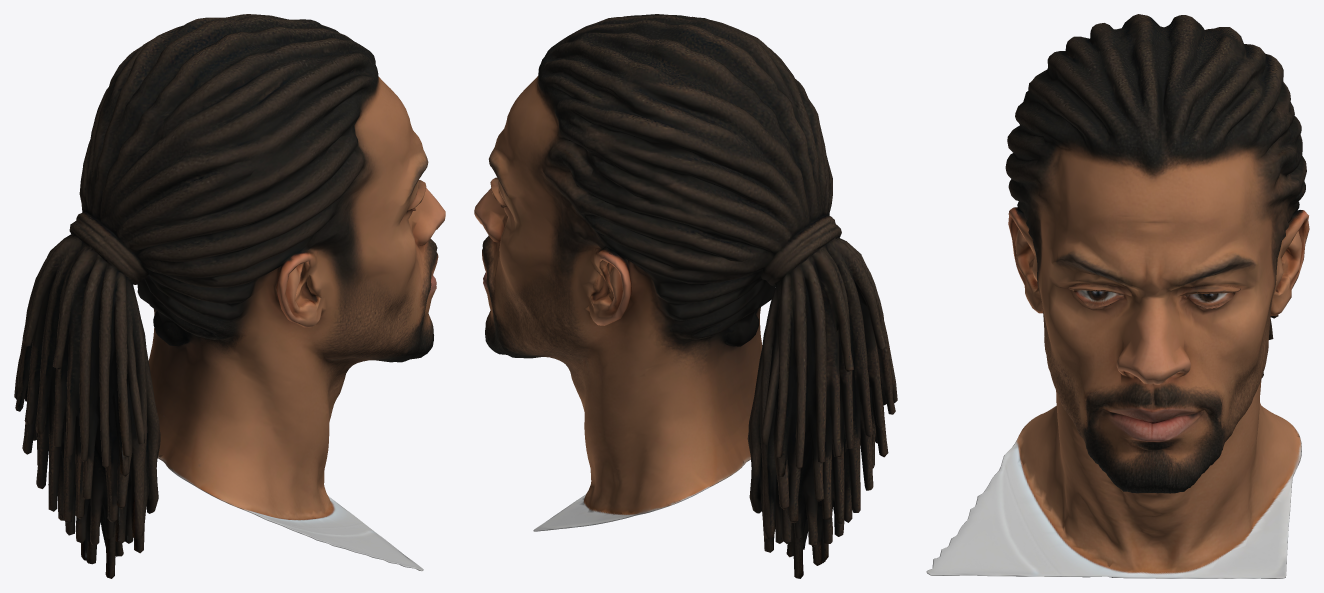
Rendered from sol_mod_head_src.glb.
3 renders of one model, left to right at view 1: azimuth 30°, elevation 25°; view 2: azimuth 150°, elevation 25°; view 3: azimuth 270°, elevation 25°, orthographic. The views are drawn at different scales.
Visible parts, largest first — view 1: tripo_node_e808d4cd-80cc-4547-8bef-cdaece89963c; view 2: tripo_node_e808d4cd-80cc-4547-8bef-cdaece89963c; view 3: tripo_node_e808d4cd-80cc-4547-8bef-cdaece89963c.
Part boxes in pixels (<box>): tripo_node_e808d4cd-80cc-4547-8bef-cdaece89963c: <box>14,14,445,578</box>; tripo_node_e808d4cd-80cc-4547-8bef-cdaece89963c: <box>474,14,897,578</box>; tripo_node_e808d4cd-80cc-4547-8bef-cdaece89963c: <box>926,14,1309,578</box>.
Bounding box in the file's own units: 0.8016 × 0.9794 × 0.6329.
Materials: 1 (1 with a texture image).
